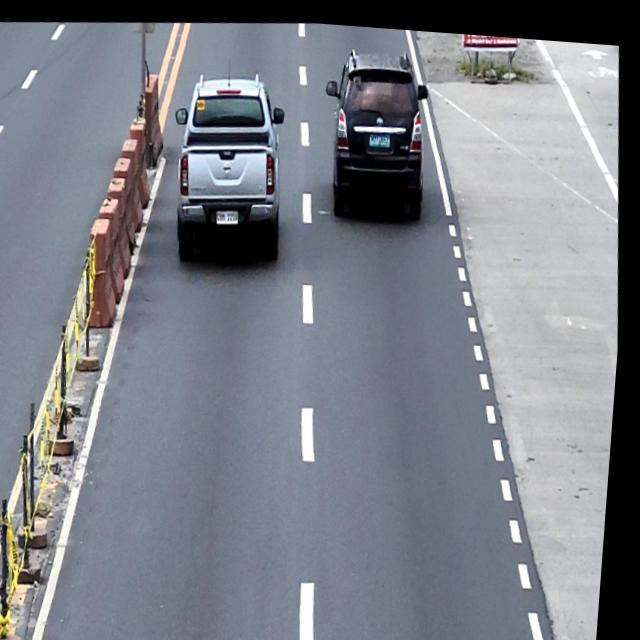Car: (164, 60, 300, 268), (316, 36, 440, 221)
License-Plate: (370, 124, 393, 143), (218, 204, 242, 222)
